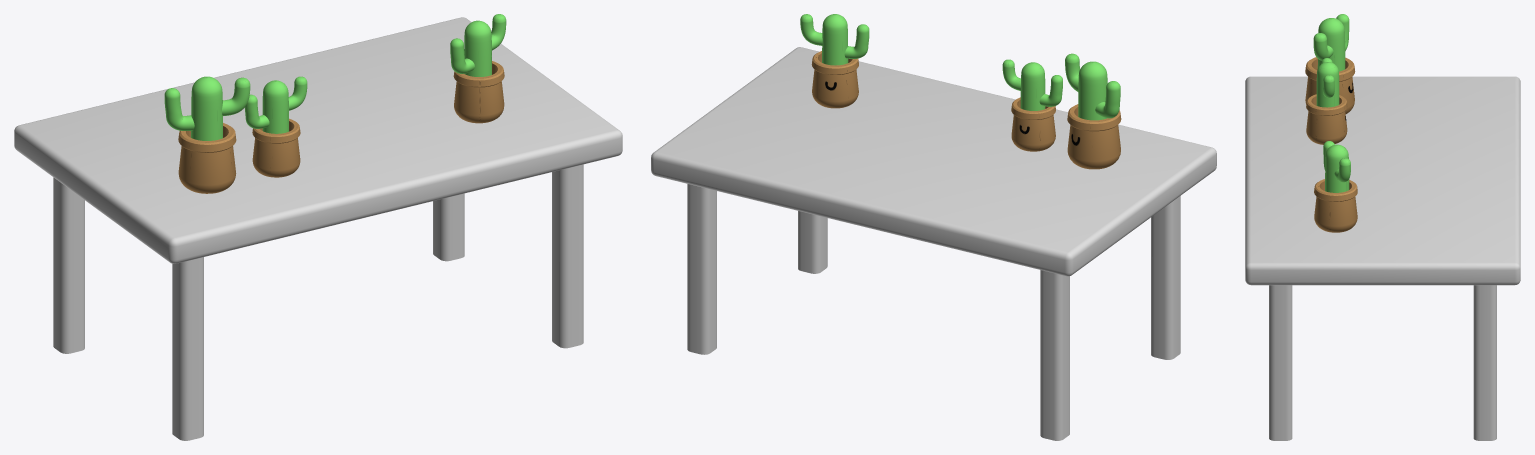
The model's file is Props.fbx_Big_Table.fbx.
3 renders of one model, left to right at view 1: azimuth 30°, elevation 25°; view 2: azimuth 150°, elevation 25°; view 3: azimuth 270°, elevation 25°, orthographic. The views are drawn at different scales.
Visible parts, largest first — view 1: Cube, NurbsPath.002, NurbsPath.004, NurbsPath.003; view 2: Cube, NurbsPath.002, NurbsPath.004, NurbsPath.003; view 3: Cube, NurbsPath.004, NurbsPath.003, NurbsPath.002.
Part boxes in pixels (x1,y1,x2,y2): Cube: [14, 17, 622, 440]; NurbsPath.002: [164, 76, 250, 193]; NurbsPath.004: [450, 14, 506, 123]; NurbsPath.003: [244, 76, 307, 177]; Cube: [651, 47, 1216, 440]; NurbsPath.002: [1065, 53, 1121, 169]; NurbsPath.004: [800, 14, 869, 108]; NurbsPath.003: [1002, 59, 1062, 151]; Cube: [1245, 76, 1520, 440]; NurbsPath.004: [1314, 141, 1357, 232]; NurbsPath.003: [1306, 58, 1347, 144]; NurbsPath.002: [1305, 14, 1355, 113].
Size of the model in its own units: 2000 by 1361 by 1223.
